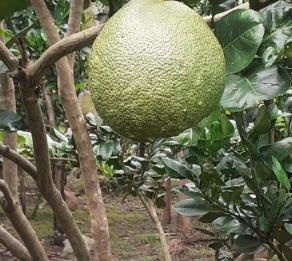Buoi: (80, 1, 229, 142)
